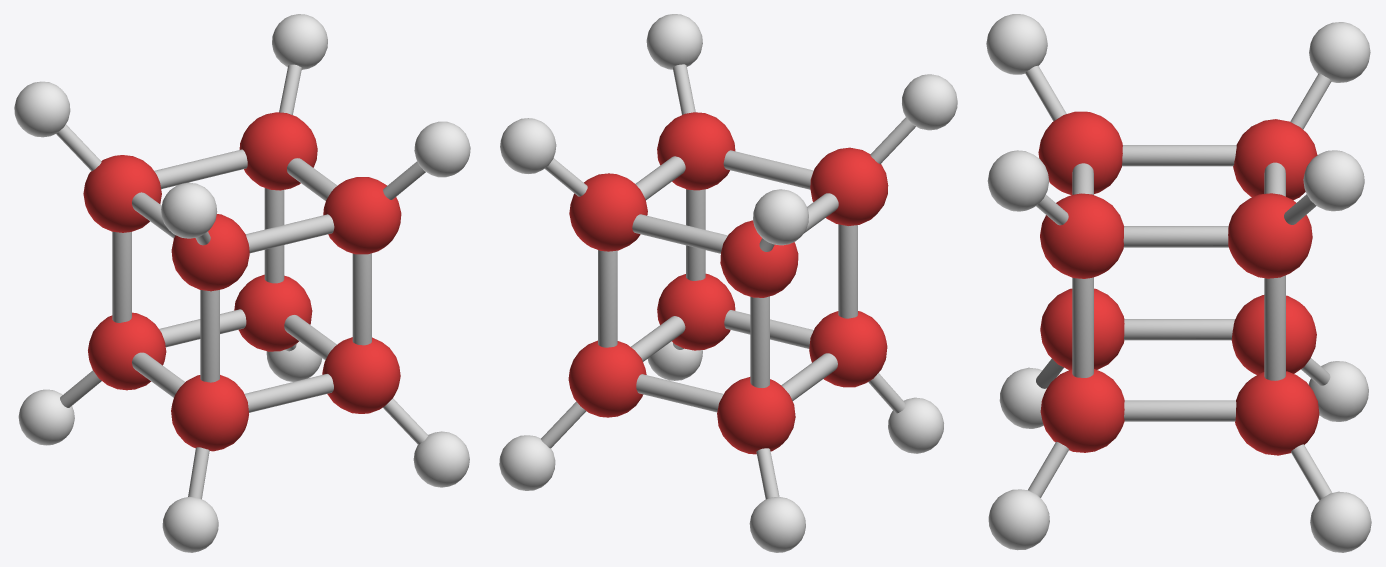
File: C8O8blend.fbx
The picture shows the model from 3 angles, left to right: view 1: azimuth 30°, elevation 25°; view 2: azimuth 150°, elevation 25°; view 3: azimuth 270°, elevation 25°; orthographic projection. The views are drawn at different scales.
Visible parts, largest first — view 1: Atom_6_O, Atom_1_O, Atom_0_O, Atom_1_O_001, Atom_5_O_001, Atom_4_O_001, Atom_5_O, Atom_1_O_003, Atom_1_H_003, Atom_1_H, Atom_6_H_002, Atom_1_H_001 (+22 smaller); view 2: Atom_4_O_001, Atom_5_O, Atom_1_O_001, Atom_1_O_003, Atom_6_O, Atom_1_O, Atom_0_O, Atom_5_O_001, Atom_1_H_001, Atom_6_H_001, Atom_1_H_002, Atom_1_H (+22 smaller); view 3: Atom_0_O, Atom_5_O, Atom_1_O_001, Atom_1_O, Atom_1_O_003, Atom_5_O_001, Atom_6_O, Atom_4_O_001, Atom_6_H, Atom_3_H, Atom_1_H_002, Atom_1_H_003 (+18 smaller).
Part boxes in pixels (x1,y1,x2,y2): Atom_6_O: [171, 375, 248, 451]; Atom_1_O: [323, 177, 401, 254]; Atom_0_O: [322, 337, 400, 413]; Atom_1_O_001: [239, 112, 317, 190]; Atom_5_O_001: [83, 155, 161, 232]; Atom_4_O_001: [88, 312, 166, 390]; Atom_5_O: [234, 274, 312, 351]; Atom_1_O_003: [171, 214, 249, 291]; Atom_1_H_003: [414, 121, 470, 177]; Atom_1_H: [161, 182, 217, 238]; Atom_6_H_002: [162, 496, 218, 552]; Atom_1_H_001: [14, 81, 70, 137]; Atom_4_O_001: [717, 377, 795, 454]; Atom_5_O: [568, 340, 646, 417]; Atom_1_O_001: [569, 173, 647, 251]; Atom_1_O_003: [810, 147, 888, 225]; Atom_6_O: [809, 311, 887, 387]; Atom_1_O: [657, 112, 735, 190]; Atom_0_O: [657, 273, 735, 350]; Atom_5_O_001: [720, 220, 798, 297]; Atom_1_H_001: [753, 189, 808, 245]; Atom_6_H_001: [749, 496, 805, 552]; Atom_1_H_002: [500, 118, 556, 173]; Atom_1_H: [902, 74, 957, 130]; Atom_0_O: [1040, 369, 1124, 452]; Atom_5_O: [1235, 371, 1319, 455]; Atom_1_O_001: [1228, 193, 1312, 278]; Atom_1_O: [1040, 193, 1123, 278]; Atom_1_O_003: [1038, 111, 1122, 194]; Atom_5_O_001: [1233, 119, 1317, 199]; Atom_6_O: [1040, 288, 1124, 369]; Atom_4_O_001: [1231, 295, 1316, 374]; Atom_6_H: [1310, 491, 1371, 552]; Atom_3_H: [988, 489, 1049, 550]; Atom_1_H_002: [1303, 150, 1364, 211]; Atom_1_H_003: [987, 150, 1049, 211].
Bounding box in the file's own units: 2.72 × 3.17 × 2.73.
